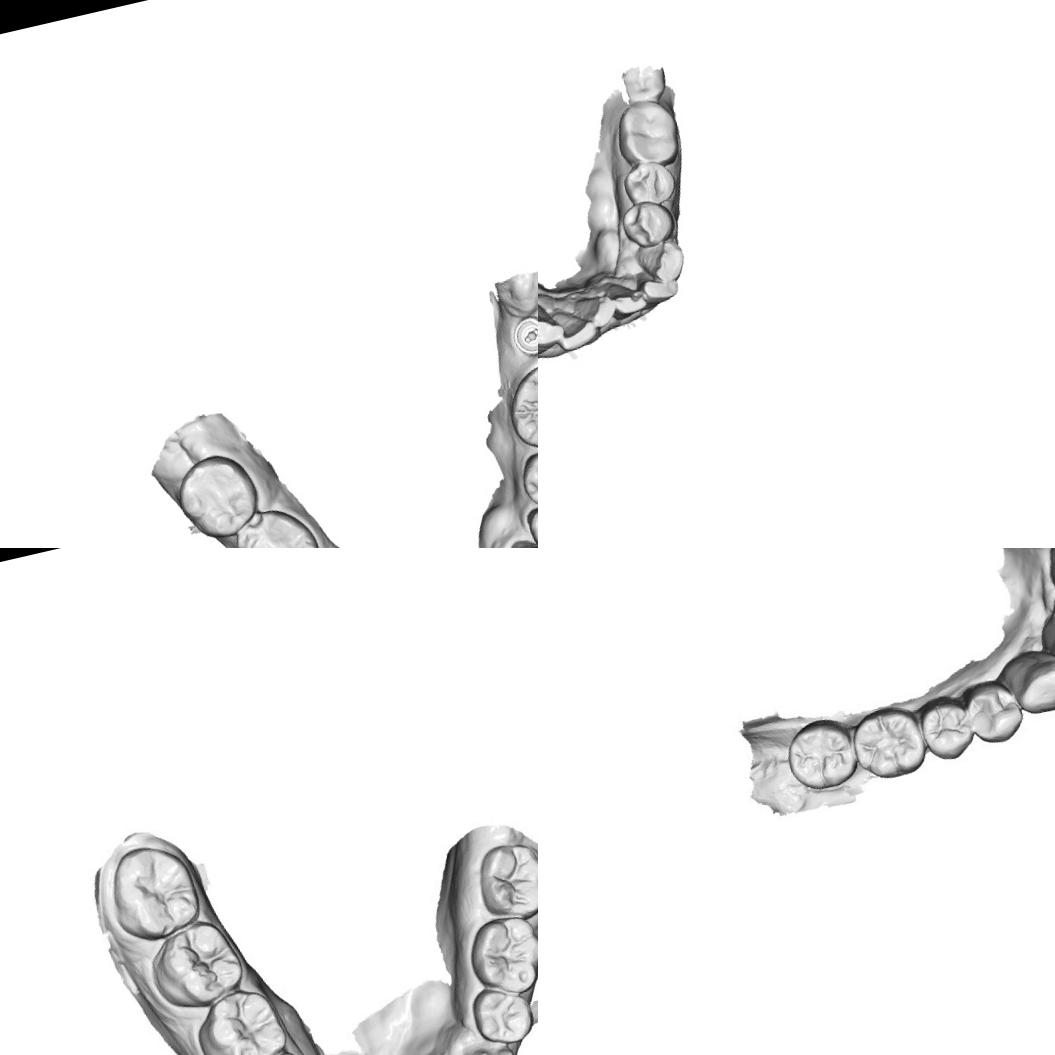canine: (1001, 643, 1055, 719), (631, 236, 690, 290), (538, 296, 570, 362), (459, 1037, 523, 1055)
implant_minus: (508, 311, 538, 360)
incisor: (546, 300, 602, 356), (570, 288, 620, 334), (603, 276, 651, 322), (636, 268, 682, 307), (1042, 611, 1055, 673)
molar: (101, 835, 207, 948), (142, 912, 251, 1016), (170, 447, 266, 546), (188, 981, 294, 1055), (461, 907, 538, 1003), (847, 699, 932, 785), (780, 712, 862, 796), (469, 834, 538, 928), (608, 94, 687, 175), (228, 499, 323, 548), (499, 355, 538, 462), (612, 52, 672, 109)
premolar: (465, 978, 538, 1053), (958, 674, 1030, 749), (914, 693, 979, 765), (616, 194, 680, 252), (618, 156, 680, 212), (515, 443, 538, 512), (522, 497, 538, 548)
